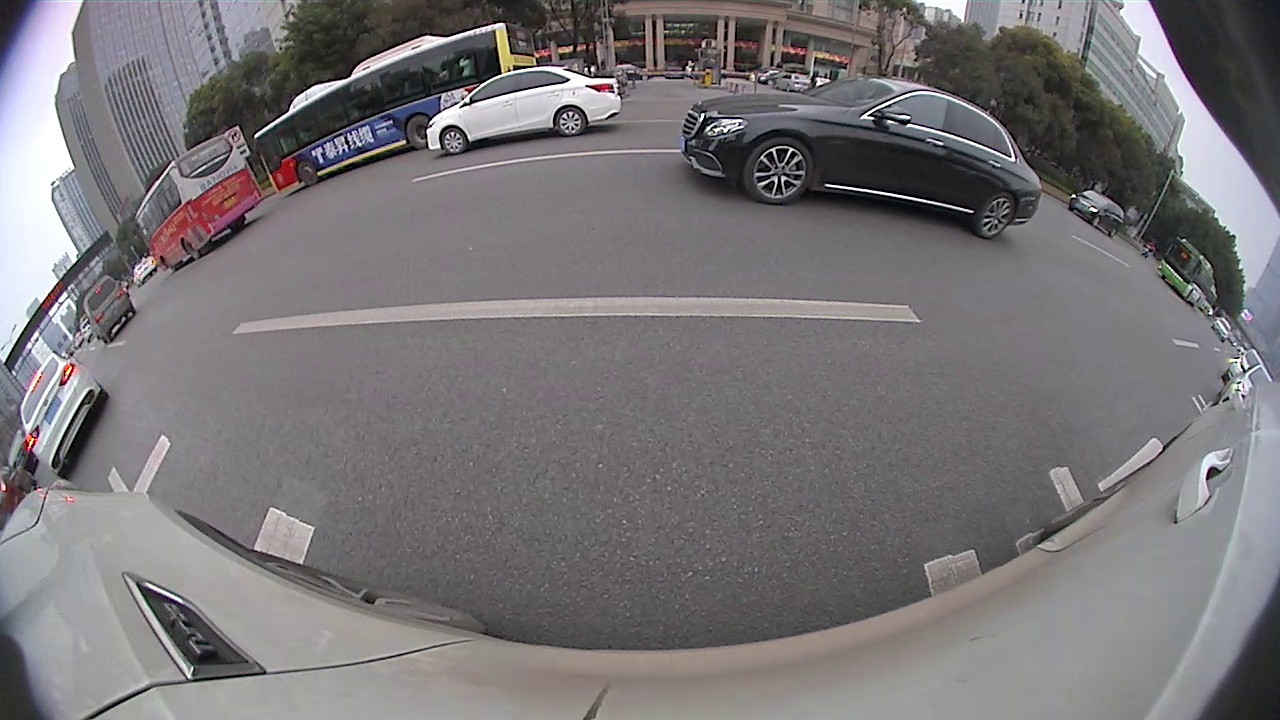bus: (252, 20, 539, 199), (133, 131, 266, 273), (1156, 236, 1217, 311)
car: (680, 73, 1045, 242), (424, 63, 625, 157), (16, 348, 109, 480), (82, 273, 138, 345), (1212, 361, 1275, 409), (1067, 190, 1127, 239), (1211, 315, 1236, 342)
front: (740, 138, 805, 204), (440, 125, 469, 157), (295, 161, 321, 186)
rear: (970, 193, 1017, 240), (553, 103, 590, 138), (404, 112, 433, 152), (179, 236, 206, 263), (230, 214, 250, 235), (93, 390, 114, 410), (56, 462, 75, 482)
